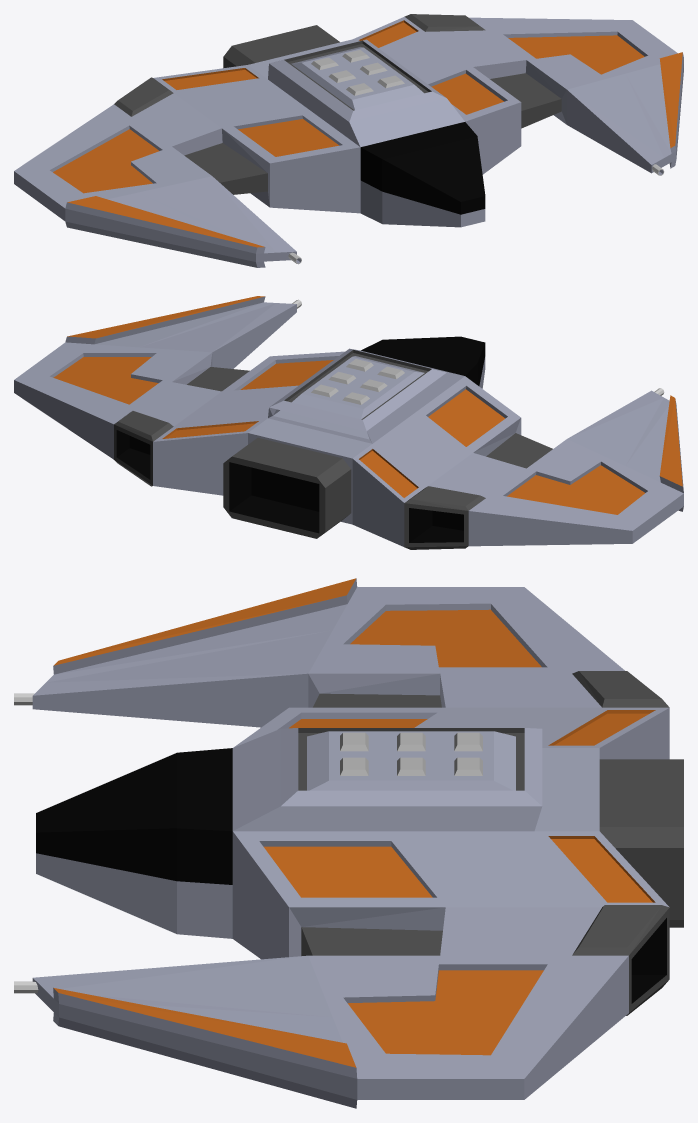
File: Spaceship3_4.fbx
The picture shows the model from 3 angles, top to bottom: view 1: azimuth 30°, elevation 25°; view 2: azimuth 150°, elevation 25°; view 3: azimuth 270°, elevation 25°; orthographic projection. The views are drawn at different scales.
Visible parts, largest first — view 1: Spaceship3_4; view 2: Spaceship3_4; view 3: Spaceship3_4.
Part boxes in pixels (x1,y1,x2,y2): Spaceship3_4: (14,14,683,267); Spaceship3_4: (14,296,683,549); Spaceship3_4: (14,578,683,1108).
Size of the model in its own units: 1183 by 164 by 681.
